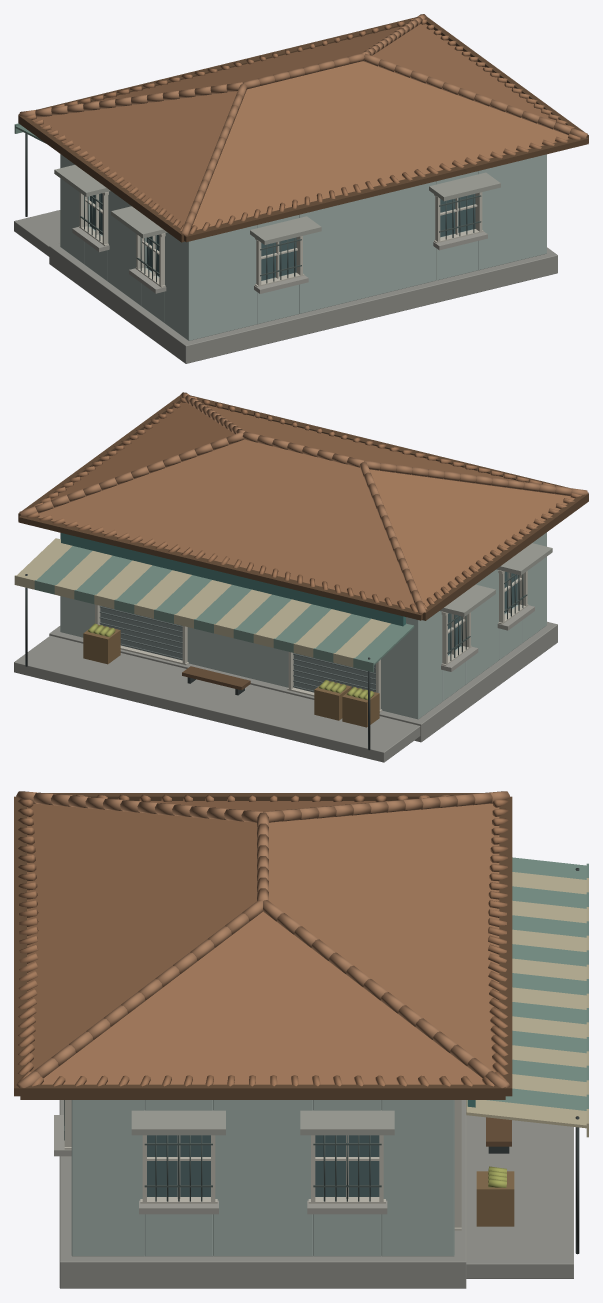
Rendered from coastal_shop.glb.
3 renders of one model, top to bottom at view 1: azimuth 30°, elevation 25°; view 2: azimuth 150°, elevation 25°; view 3: azimuth 270°, elevation 25°, orthographic. The views are drawn at different scales.
Visible parts, largest first — view 1: coastal_shop; view 2: coastal_shop; view 3: coastal_shop.
Boxes of the visible parts, x1,y1,x2,y2 form: coastal_shop: [14, 14, 588, 363]; coastal_shop: [14, 392, 588, 762]; coastal_shop: [14, 791, 588, 1288].
Bounding box in the file's own units: 10.29 × 4.81 × 8.41.
